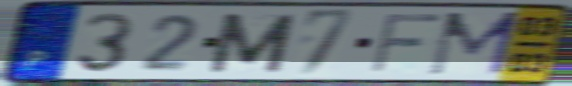2: (136, 12, 205, 73)
3: (74, 12, 137, 74)
7: (290, 7, 357, 80)
F: (366, 11, 447, 76)
M: (424, 10, 524, 78), (204, 11, 300, 75)
